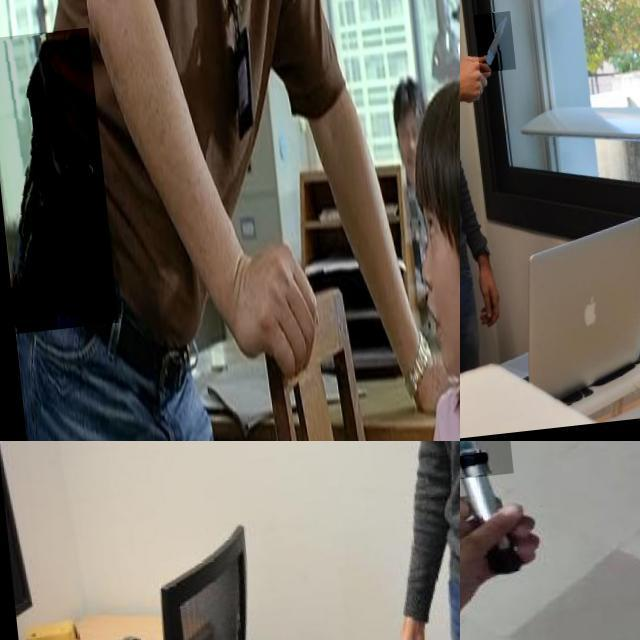-: (460, 441, 515, 526), (469, 20, 510, 81)
gun-knife-thesis - v11 Yolov5 augmented: (0, 29, 110, 334)
